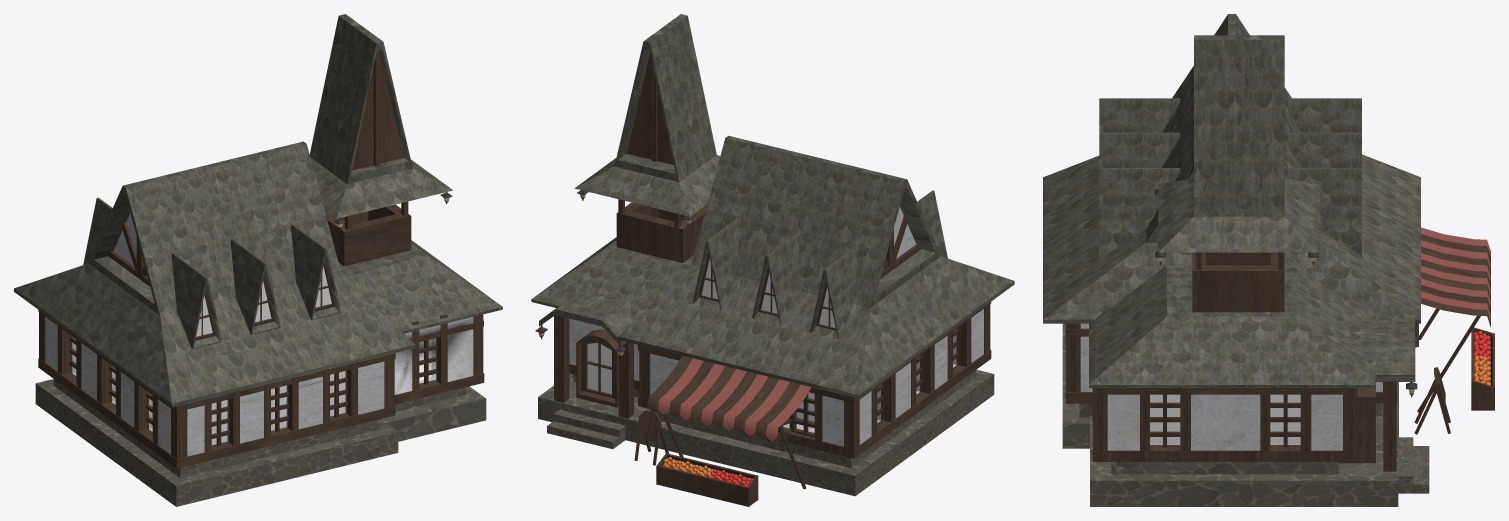
3 views of the same model, side by side, from view 1: azimuth 30°, elevation 25°; view 2: azimuth 150°, elevation 25°; view 3: azimuth 270°, elevation 25° (orthographic). The views are drawn at different scales.
Visible parts, largest first — view 1: Object_13, Object_14, Object_10, Object_11, Object_9, Object_12; view 2: Object_13, Object_14, Object_10, Object_11, Object_5, Object_4, Object_12, Object_9; view 3: Object_13, Object_14, Object_10, Object_11, Object_5, Object_4, Object_2, Object_9.
Boxes of the visible parts, x1,y1,x2,y2 form: Object_13: (14, 14, 502, 407); Object_14: (38, 50, 484, 468); Object_10: (35, 379, 486, 506); Object_11: (45, 213, 473, 456); Object_9: (69, 260, 437, 446); Object_12: (196, 267, 345, 445); Object_13: (531, 14, 1014, 398); Object_14: (554, 52, 991, 506); Object_10: (538, 369, 994, 496); Object_11: (569, 207, 983, 446); Object_5: (647, 355, 800, 438); Object_4: (658, 358, 811, 441); Object_12: (587, 258, 835, 421); Object_9: (698, 253, 959, 432); Object_13: (1043, 14, 1420, 387); Object_14: (1065, 252, 1494, 471); Object_10: (1062, 323, 1429, 506); Object_11: (1080, 323, 1382, 450); Object_5: (1421, 233, 1490, 327); Object_4: (1421, 227, 1490, 320); Object_2: (1150, 394, 1300, 444); Object_9: (1150, 328, 1415, 447).
Bounding box in the file's own units: 11.46 × 11.31 × 10.7.
Materials: 13 (7 with a texture image).
